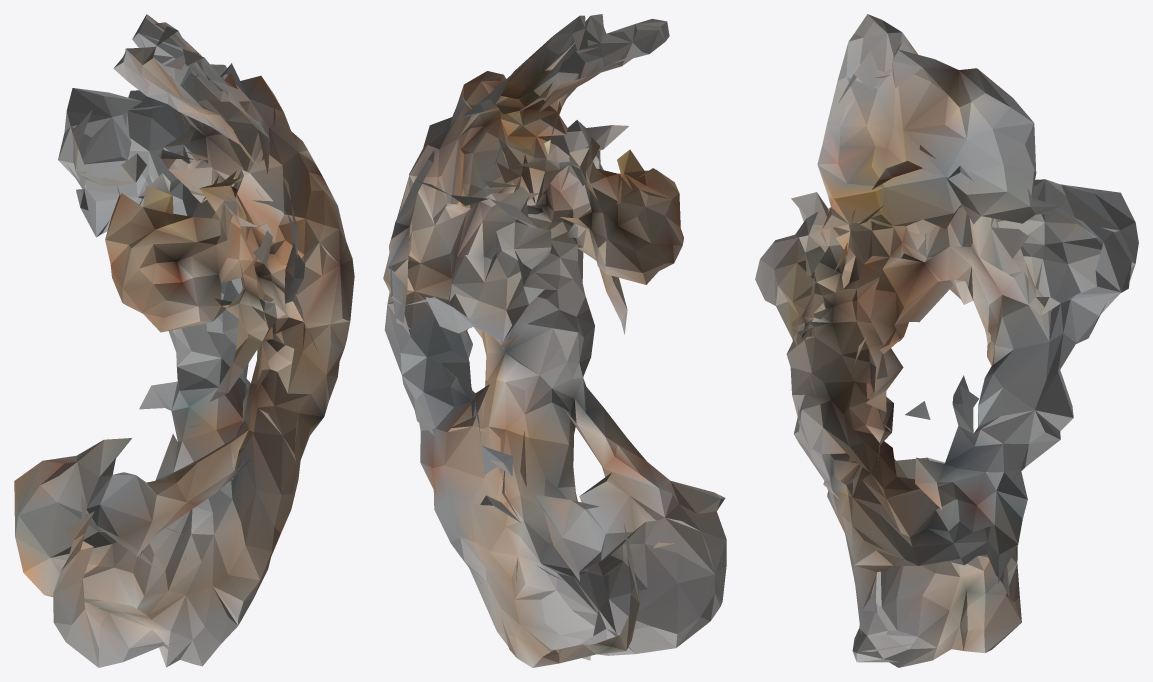
File: creature-shrimp.glb
3 views of the same model, side by side, from view 1: azimuth 30°, elevation 25°; view 2: azimuth 150°, elevation 25°; view 3: azimuth 270°, elevation 25° (orthographic). The views are drawn at different scales.
Parts seen in each view (by area): view 1: world; view 2: world; view 3: world.
Part boxes in pixels (bbox=[...]): world: bbox=[14, 14, 354, 667]; world: bbox=[383, 14, 726, 667]; world: bbox=[755, 14, 1138, 667].
Bounding box in the file's own units: 0.4533 × 1 × 0.5559.
